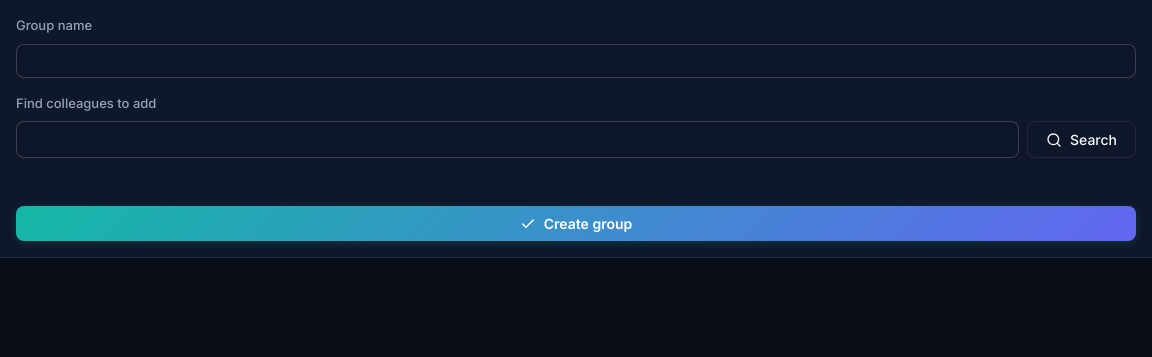
Scenario: CreateGroupForm › selects and deselects candidates, and counts them
The image size is (1152, 357).
Type "an" into the field labelled "Find colleagues to add" at (518, 140), box [16, 121, 1019, 158]
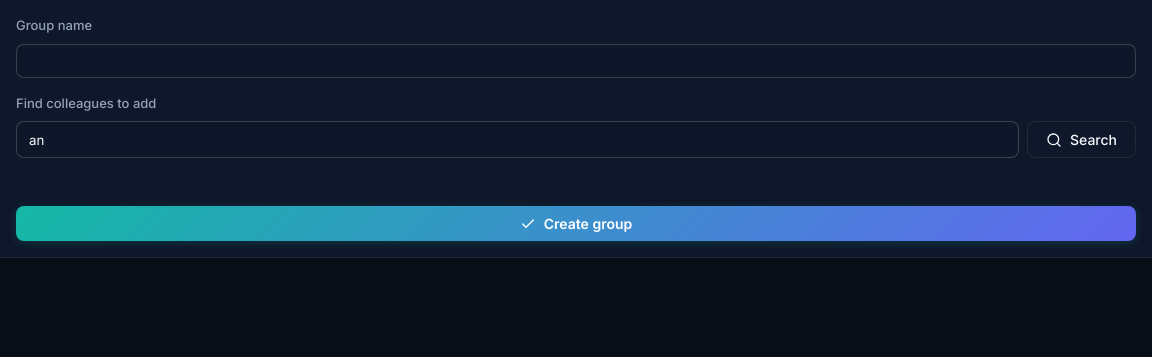
Click the button "Search" at (1082, 140), box [1027, 121, 1136, 158]
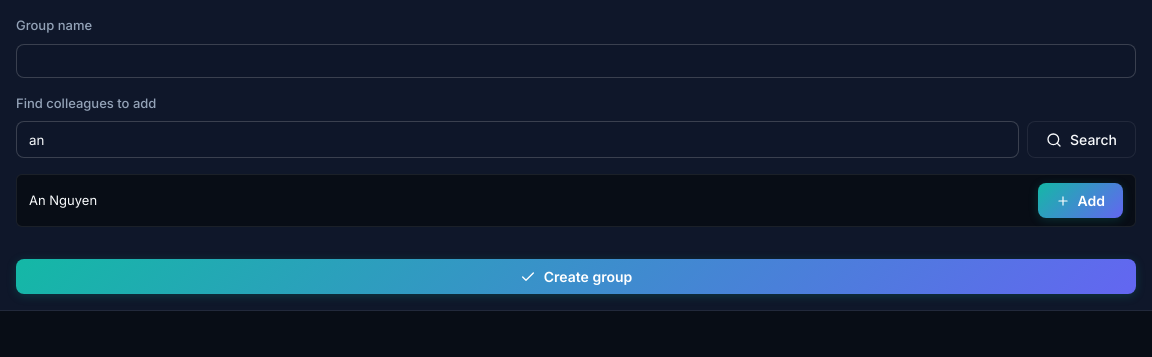
Click the button "Add" at (1080, 200), box [1038, 183, 1123, 218]
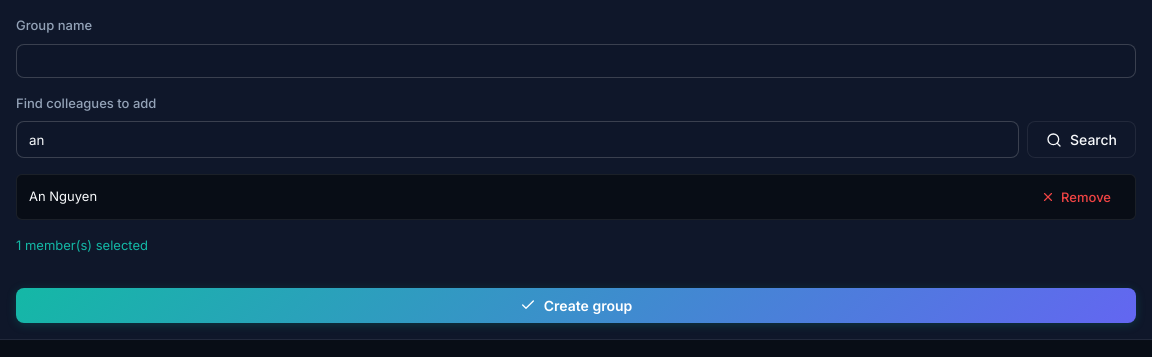
Result: the text with test id "selected-member-count" reads "1 member(s) selected" at [16, 237, 148, 253]
Note: The same button toggles back, so a mis-click is one click to undo rather than a reload.
Click the button "Remove" at (1076, 197), box [1029, 183, 1123, 211]
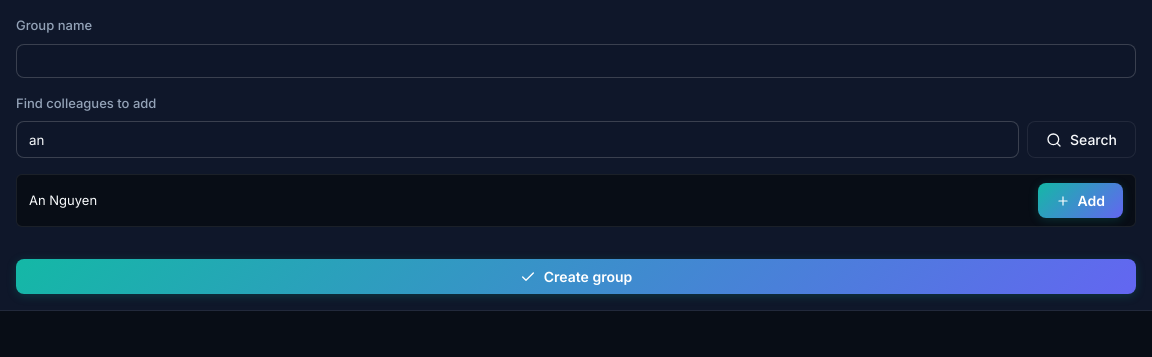
Result: the text with test id "selected-member-count" is gone
